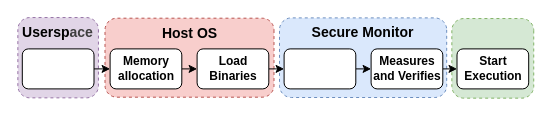
The diagram is 551 pixels wide and 116 high, and some of its shapes have lost their labels. The shapes that lost their labels are listed below. From the top down, each one's box as (x1, y1, x2, y2) in pixels, then its label:
(21, 48, 94, 89): Request enclave
(283, 48, 356, 89): Memory locking
(451, 18, 534, 98): Enclave
